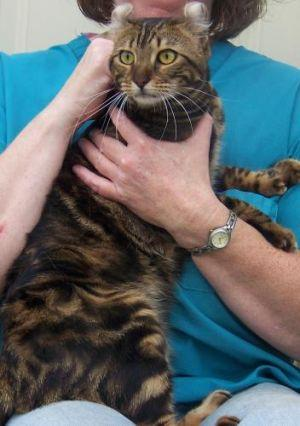bengal: (89, 1, 221, 122)
